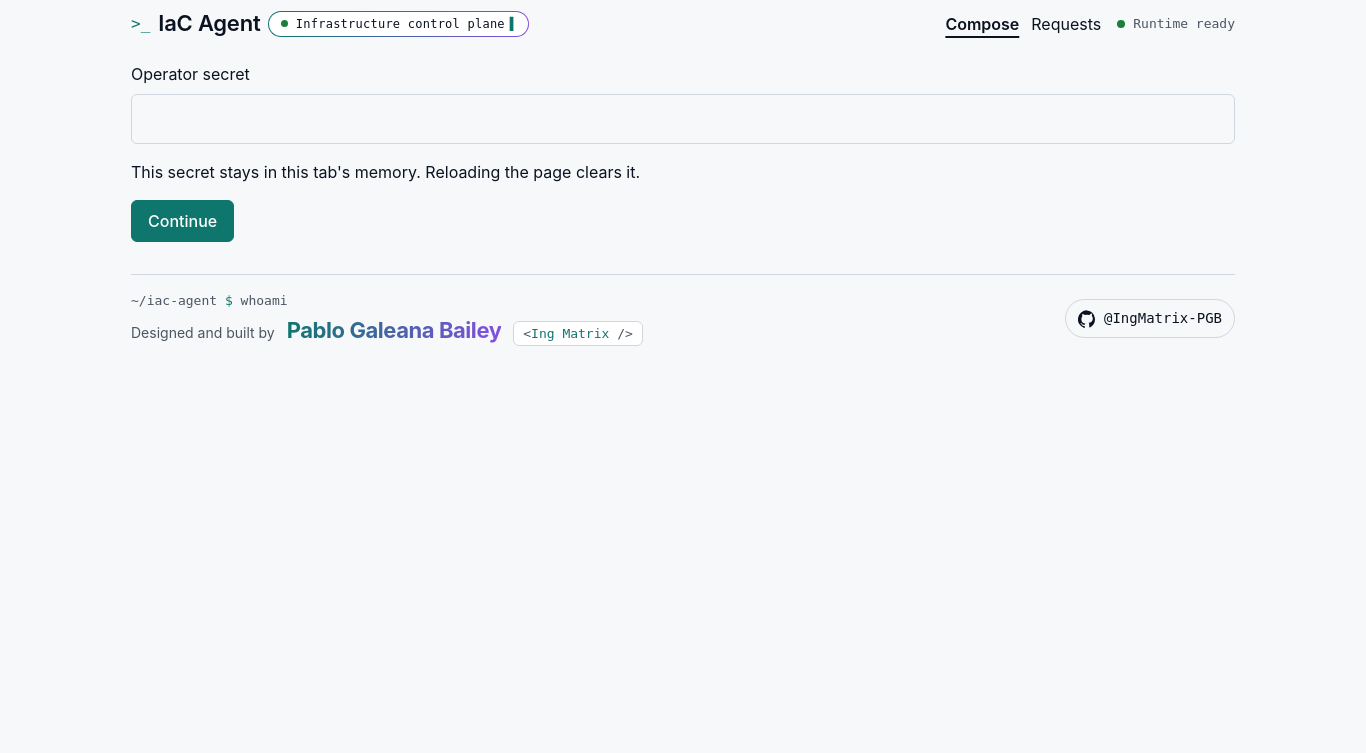
Scenario: operator shell › keeps an unsupported intent on the composer
The image size is (1366, 753).
Type "test-operator-secret" into the password field labelled "Operator secret".
click(683, 118); type("test-operator-secret")  # box x1=131 y1=94 x2=1235 y2=144
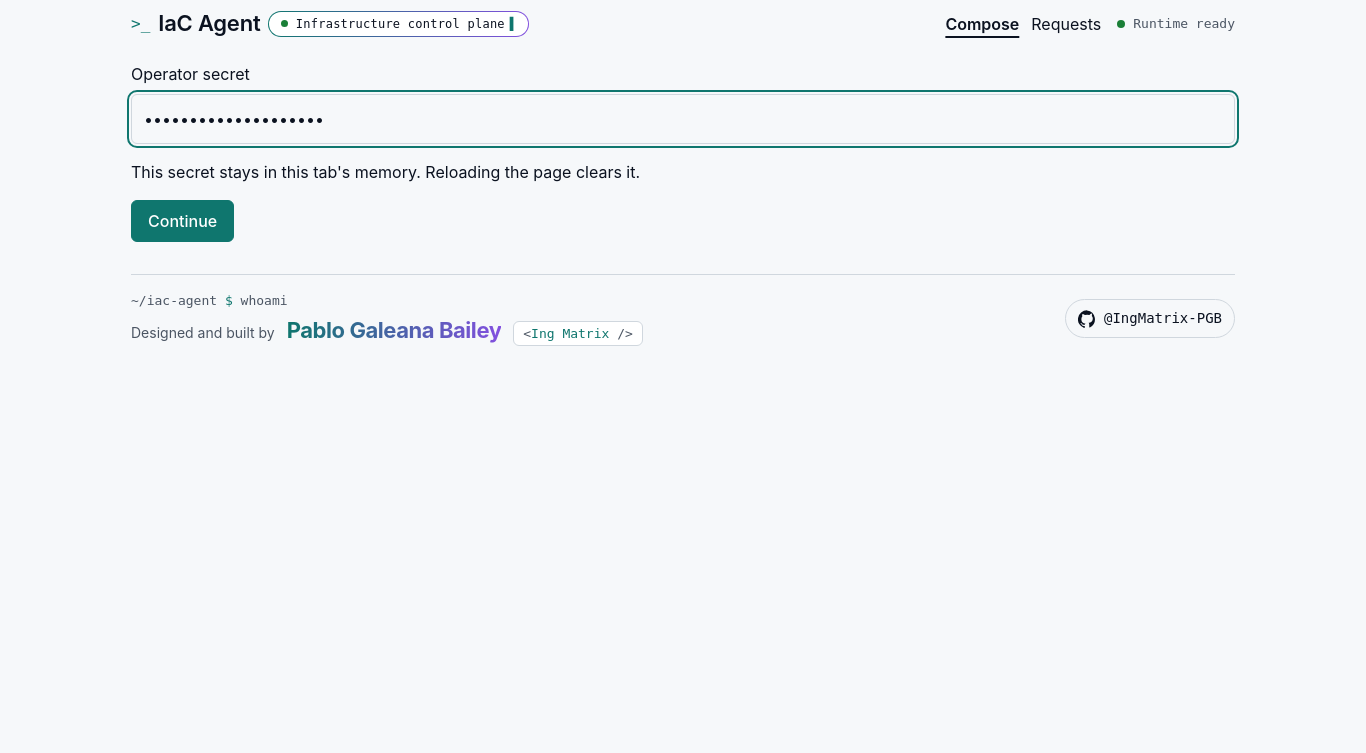
Click the button "Continue".
click(183, 220)  # box x1=131 y1=200 x2=234 y2=242
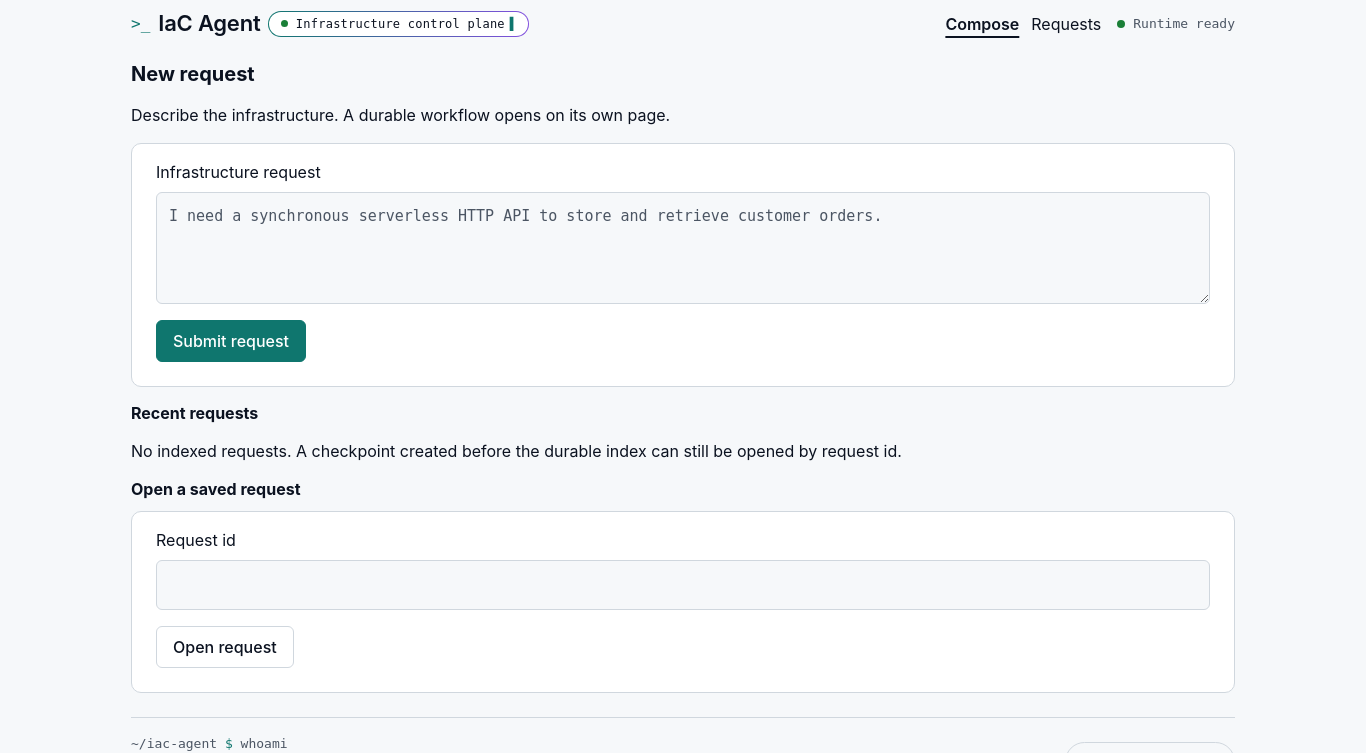
Type "build a database" into the text box labelled "Infrastructure request".
click(683, 248); type("build a database")  # box x1=156 y1=192 x2=1210 y2=304
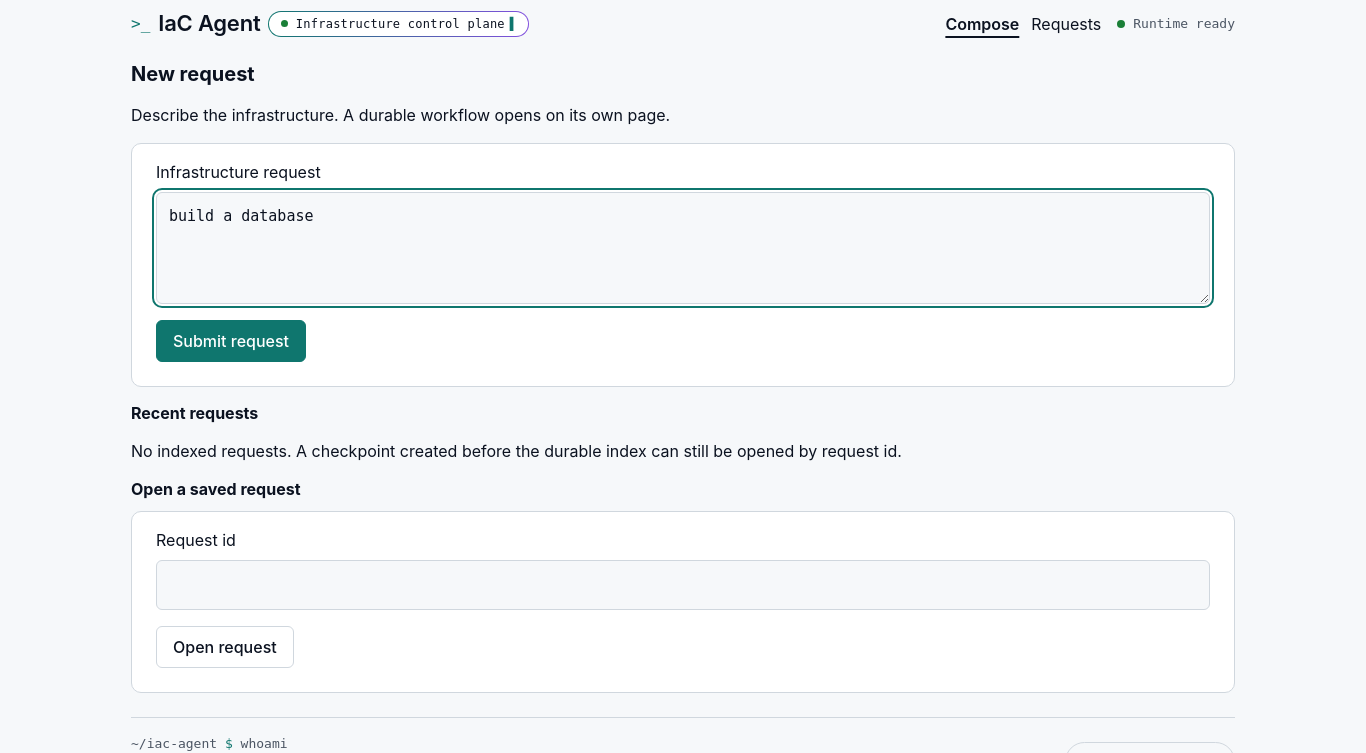
Click the button "Submit request".
click(231, 340)  # box x1=156 y1=320 x2=306 y2=362
(page scrolled)
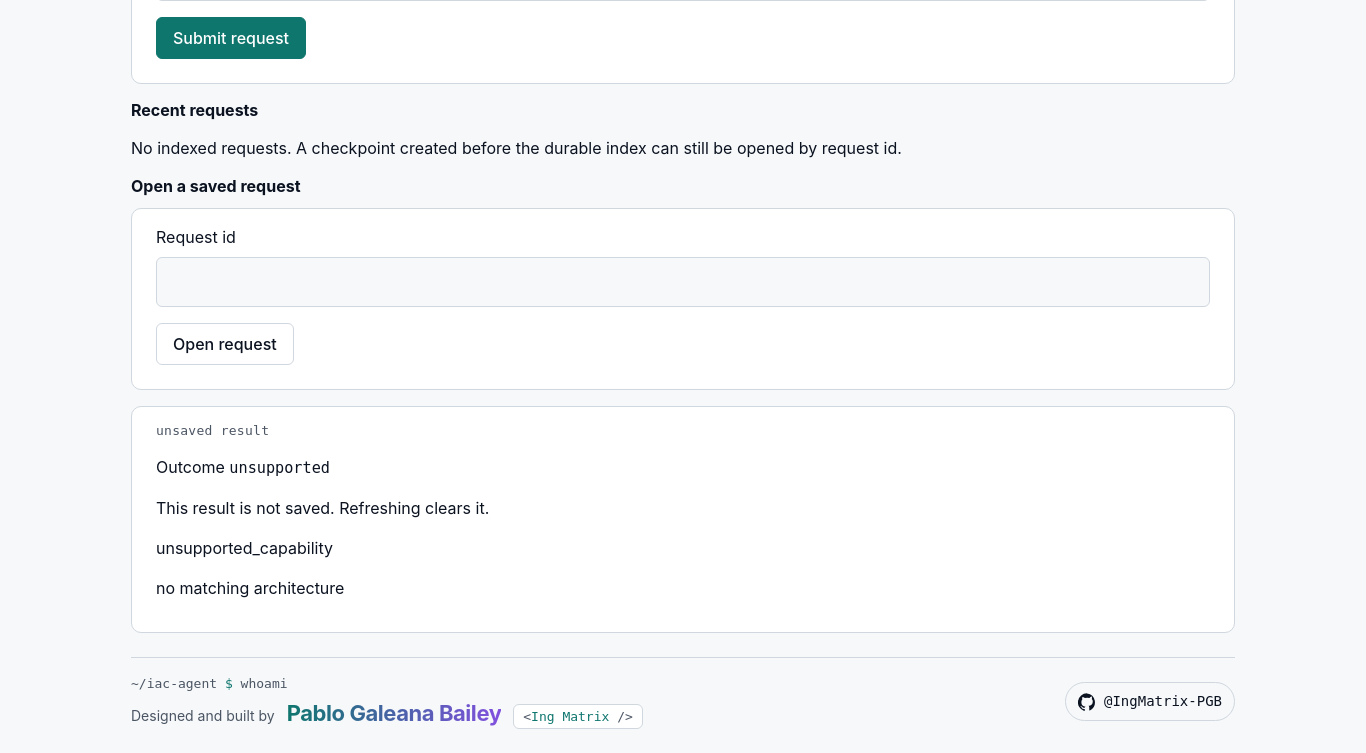
Expected: the text "no matching architecture" is shown, x1=156 y1=578 x2=344 y2=598
Expected: the text "unsupported_capability" is shown, x1=156 y1=538 x2=333 y2=558
